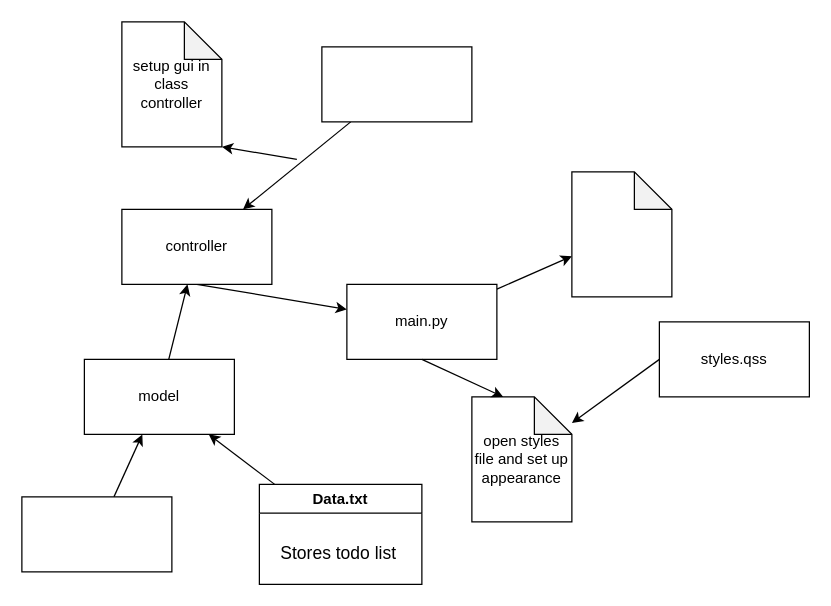
This 831x606 diagram has some shape labels left out. The shapes that lost their labels are listed below. From the top down, each one's centre as x and y in pixels, then its label:
the point at 396,84: my_gui.py
the point at 621,234: executes code
the point at 96,534: todo list class controlls data methods
